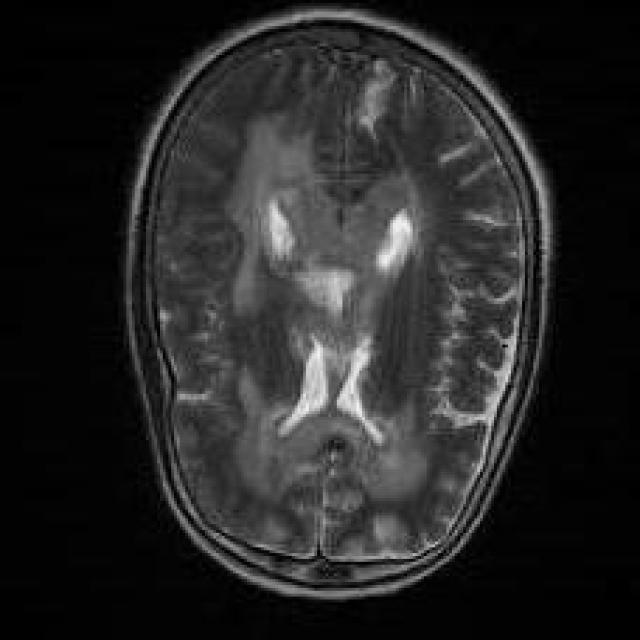notumor: (126, 9, 550, 597)
